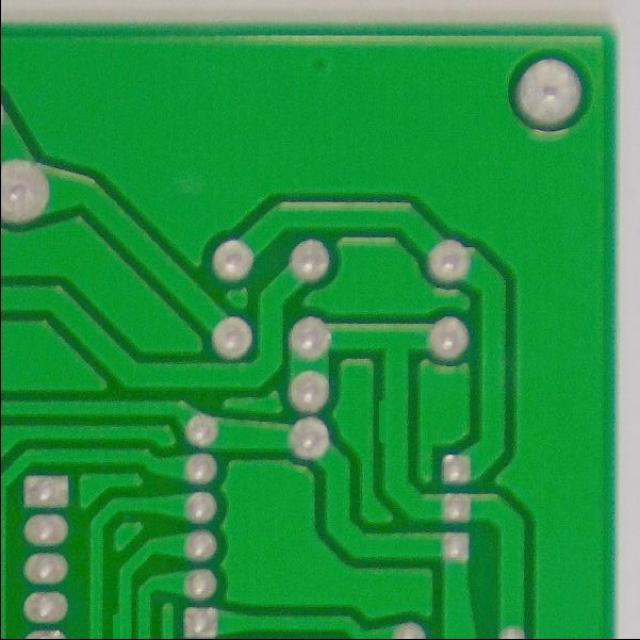spur: (369, 390, 402, 452), (106, 600, 138, 638)
